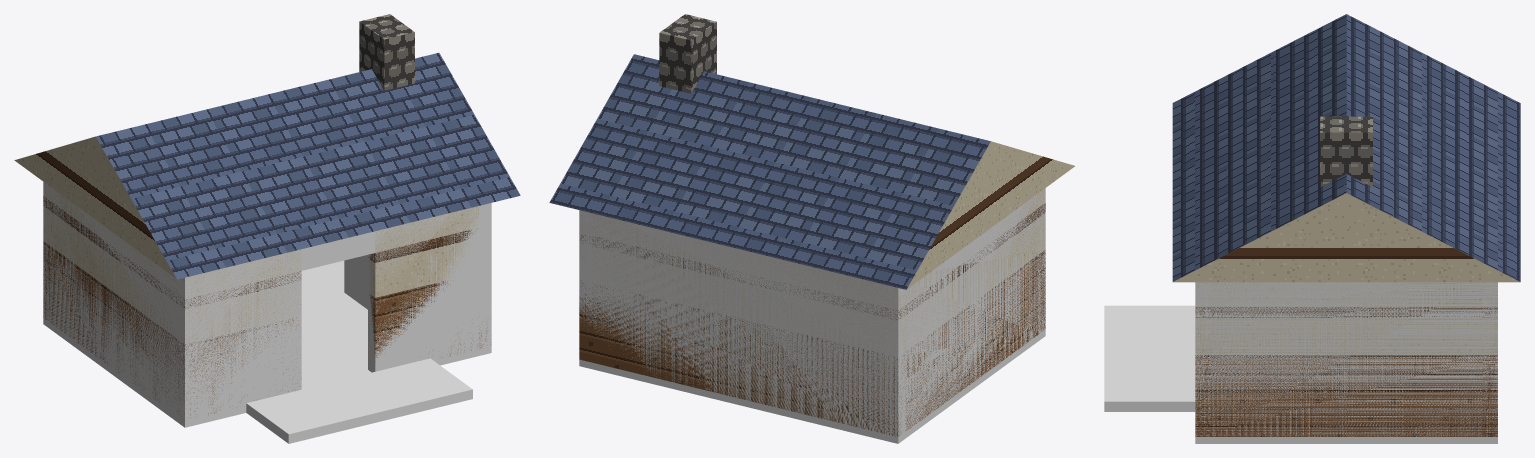
The model's file is cottage_v2.glb.
3 renders of one model, left to right at view 1: azimuth 30°, elevation 25°; view 2: azimuth 150°, elevation 25°; view 3: azimuth 270°, elevation 25°, orthographic. The views are drawn at different scales.
Parts seen in each view (by area): view 1: roof, col_wall_west, col_wall_south_w, col_wall_south_e, col_porch, col_floor, wall_south_e_high, wall_west_high, wall_west_low, chimney, wall_south_w_high, wall_south_e_low (+5 smaller); view 2: roof, col_wall_north, col_wall_west, wall_north_low, wall_west_low, wall_north_high, wall_west_high, chimney, col_floor, col_wall_east, col_wall_south_w; view 3: roof, col_wall_east, wall_east_low, wall_east_high, col_porch, chimney, col_floor, col_wall_south_e, col_wall_north, wall_south_e_low, wall_north_low.
Boxes of the visible parts, box(x1,y1,x2,y2) form: roof: box(14, 52, 520, 279); col_wall_west: box(43, 185, 197, 426); col_wall_south_w: box(178, 249, 301, 426); col_wall_south_e: box(368, 203, 491, 372); col_porch: box(246, 358, 472, 443); col_floor: box(43, 260, 491, 427); wall_south_e_high: box(368, 206, 479, 297); wall_west_high: box(43, 186, 196, 342); wall_west_low: box(43, 242, 197, 411); chimney: box(359, 14, 414, 90); wall_south_w_high: box(180, 250, 301, 343); wall_south_e_low: box(369, 281, 479, 361); roof: box(549, 54, 1074, 289); col_wall_north: box(579, 211, 905, 443); col_wall_west: box(885, 188, 1045, 442); wall_north_low: box(579, 283, 905, 436); wall_west_low: box(885, 251, 1045, 435); wall_north_high: box(580, 212, 905, 353); wall_west_high: box(886, 189, 1045, 349); chimney: box(659, 14, 716, 93); col_floor: box(579, 329, 1045, 443); col_wall_east: box(579, 210, 592, 322); col_wall_south_w: box(1038, 190, 1045, 341); roof: box(1172, 14, 1520, 282); col_wall_east: box(1195, 282, 1497, 443); wall_east_low: box(1195, 355, 1497, 436); wall_east_high: box(1195, 282, 1497, 354); col_porch: box(1104, 305, 1195, 411); chimney: box(1320, 116, 1372, 187); col_floor: box(1195, 437, 1497, 443); col_wall_south_e: box(1195, 282, 1210, 443); col_wall_north: box(1482, 282, 1497, 443); wall_south_e_low: box(1195, 355, 1210, 436); wall_north_low: box(1482, 355, 1497, 436).
Size of the model in its own units: 5.6 by 4.4 by 5.5.
Materials: 5 (5 with a texture image).
